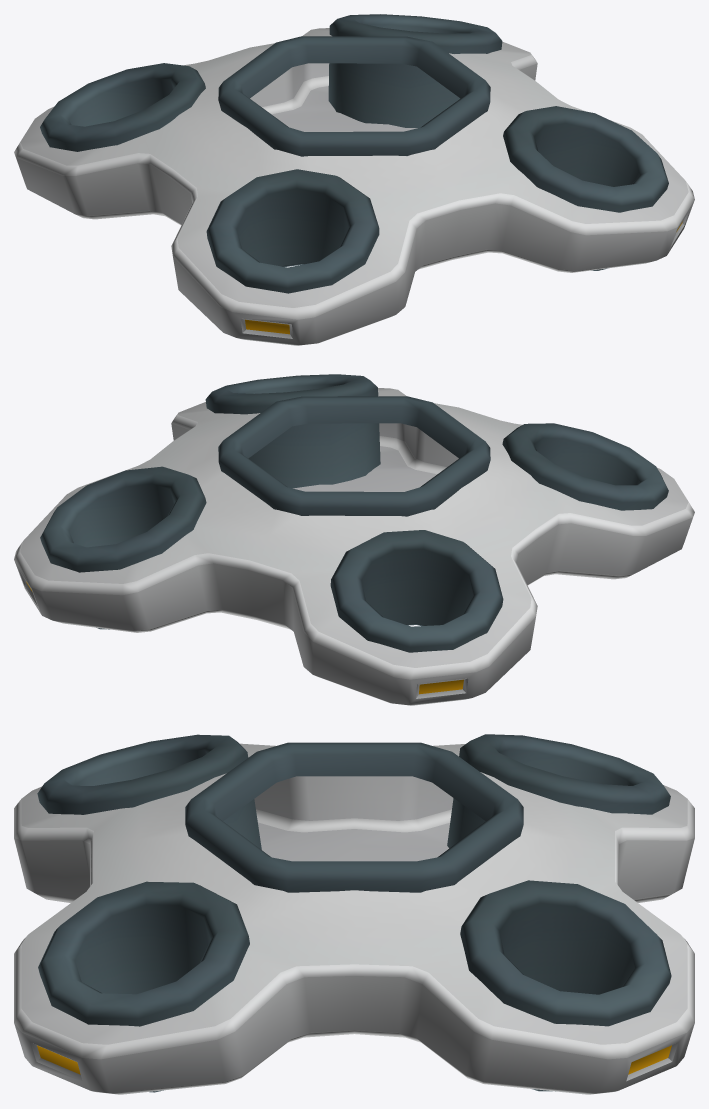
The model's file is Drone_004.fbx.
3 renders of one model, top to bottom at view 1: azimuth 30°, elevation 25°; view 2: azimuth 150°, elevation 25°; view 3: azimuth 270°, elevation 25°, orthographic. The views are drawn at different scales.
Visible parts, largest first — view 1: Drone_004; view 2: Drone_004; view 3: Drone_004.
Boxes of the visible parts, bbox=[...] form: Drone_004: bbox=[14, 14, 694, 345]; Drone_004: bbox=[14, 374, 694, 705]; Drone_004: bbox=[14, 734, 694, 1094].
Size of the model in its own units: 65.85 by 65.85 by 18.34.
